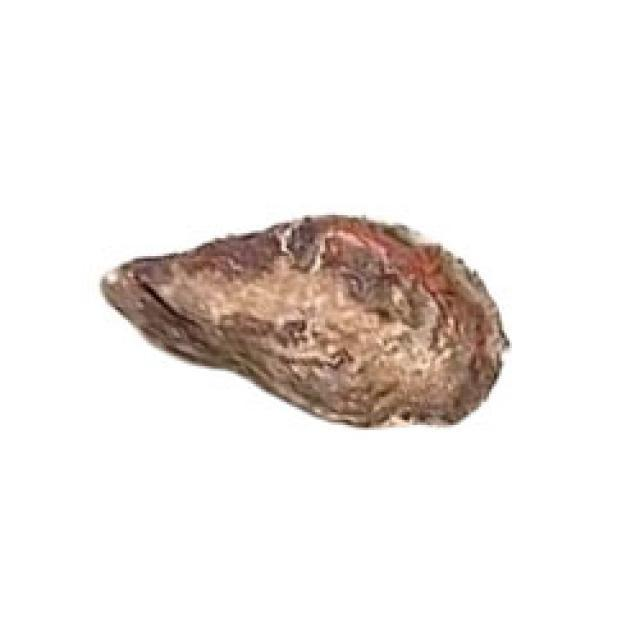Oyster- Indeterminate: (96, 212, 511, 432)
